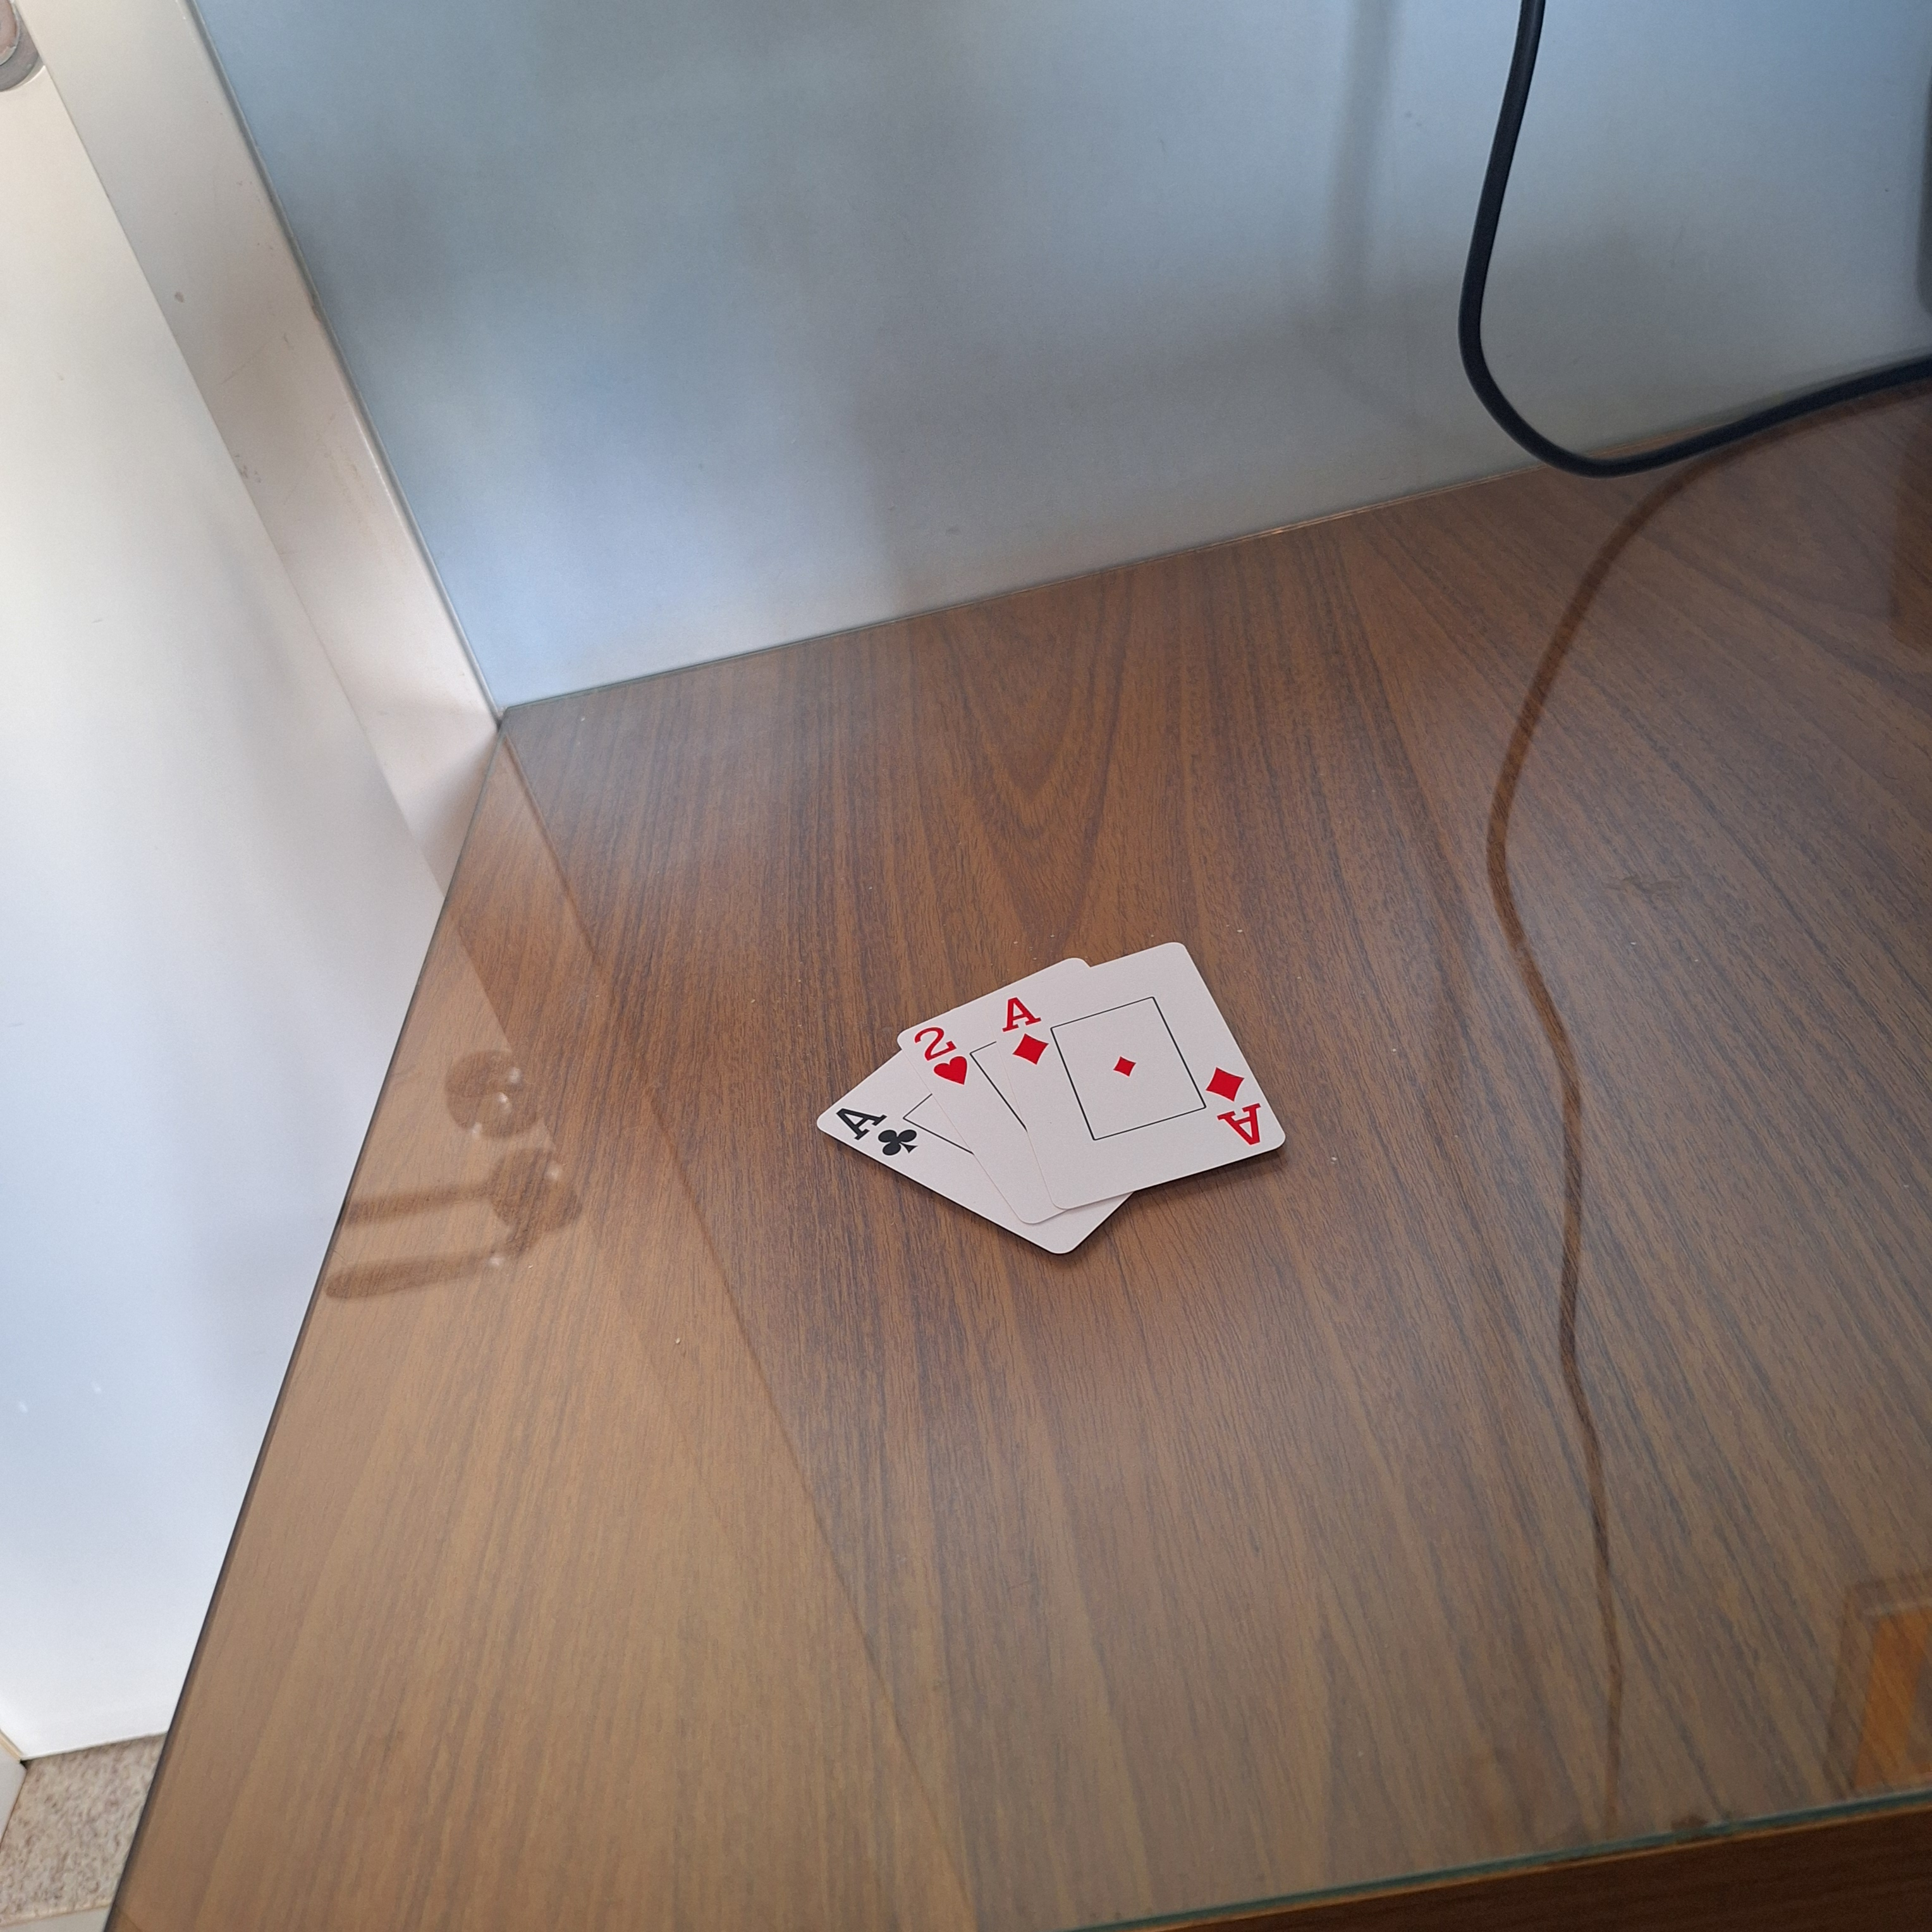2C: (906, 1019, 982, 1092)
AO: (1201, 1060, 1267, 1150), (998, 989, 1056, 1072)
AP: (824, 1100, 925, 1162)
